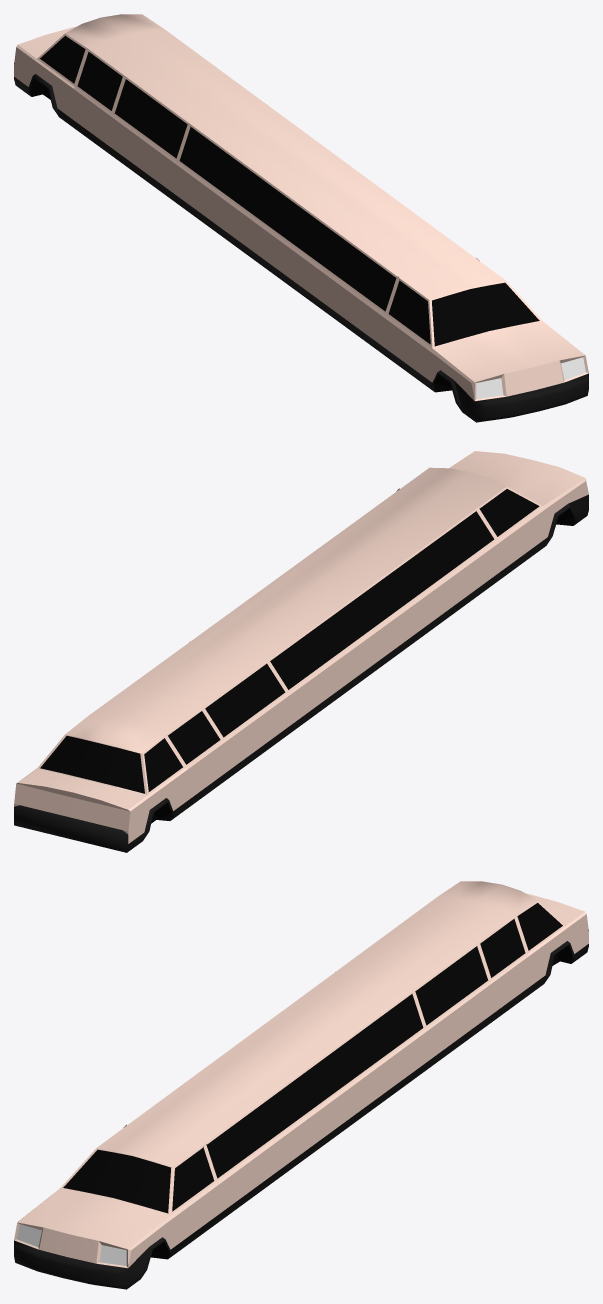
The model's file is limousine_chassis.obj.
The picture shows the model from 3 angles, top to bottom: view 1: azimuth 30°, elevation 25°; view 2: azimuth 150°, elevation 25°; view 3: azimuth 330°, elevation 25°; orthographic projection.
Parts seen in each view (by area): view 1: car_chassis.002_Cube.002; view 2: car_chassis.002_Cube.002; view 3: car_chassis.002_Cube.002.
Part boxes in pixels (x1,y1,x2,y2): car_chassis.002_Cube.002: [14, 14, 588, 422]; car_chassis.002_Cube.002: [14, 451, 588, 852]; car_chassis.002_Cube.002: [14, 881, 588, 1289].
Bounding box in the file's own units: 1.75 × 1.07 × 11.93.
